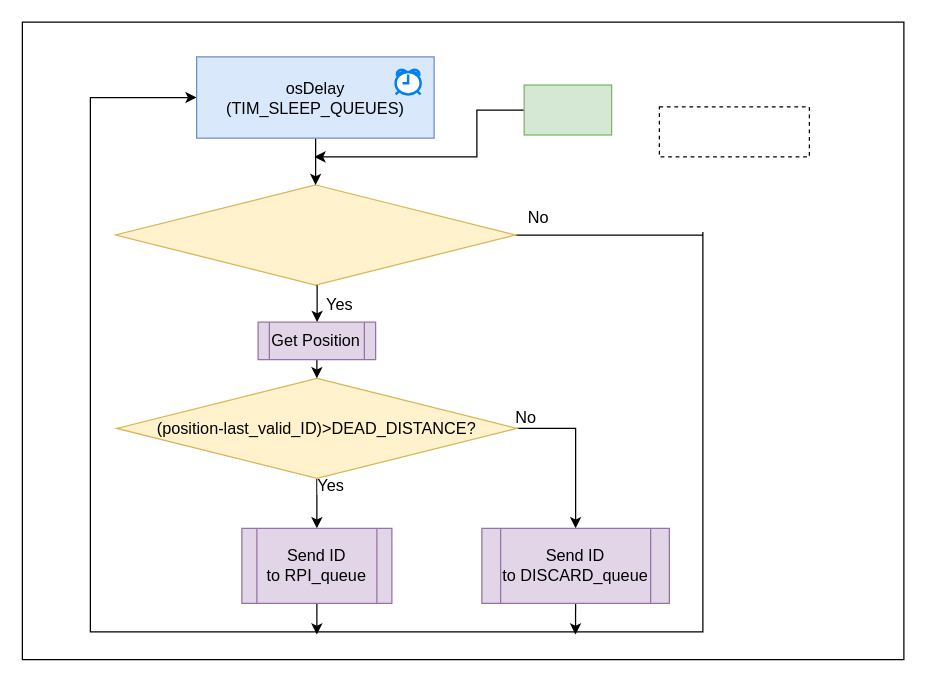
Image size: 926x681. Some labels were removed from this diagram. The shapes that lost their labels are listed below. From the top down, each one's centre as x and y in pixels, then its label:
[567,109]: Start
[733,131]: t_CURTAIN
[315,234]: new element in CURTAIN_queue?
